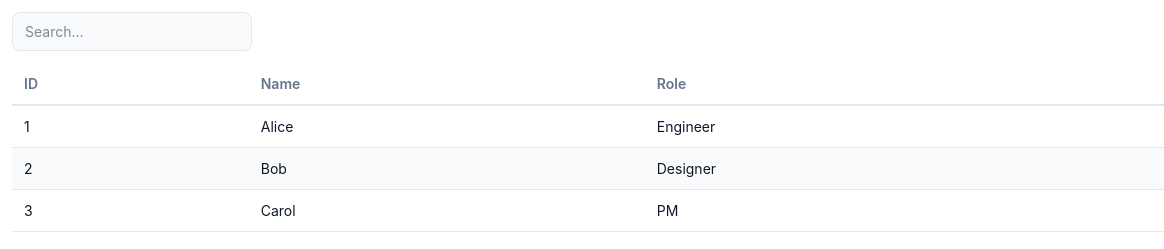
it: DataTable › filters rows based on search input
Type "Alice" into the field with placeholder "Search...". click: (132, 32)
box: [12,12,252,51]
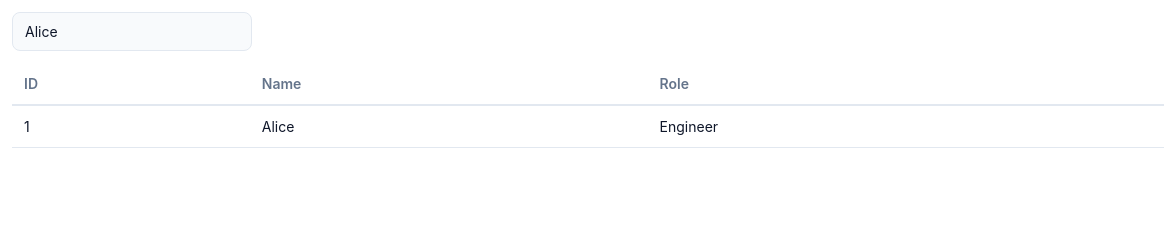
Expected: the text "Alice" is shown, [250,105,648,148]
Result: the text "Bob" is gone
